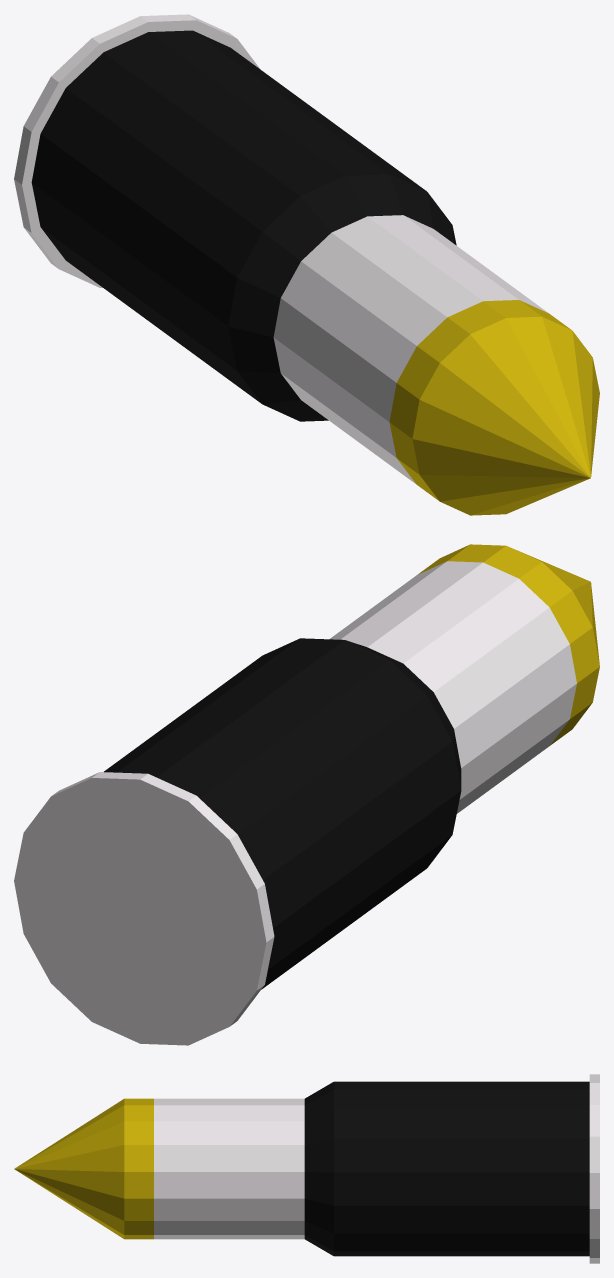
The model's file is bullet_1_bw.fbx.
3 views of the same model, one above another, from view 1: azimuth 30°, elevation 25°; view 2: azimuth 150°, elevation 25°; view 3: azimuth 270°, elevation 25° (orthographic). The views are drawn at different scales.
Visible parts, largest first — view 1: Bullet1_BW; view 2: Bullet1_BW; view 3: Bullet1_BW.
Boxes of the visible parts, box(x1,y1,x2,y2) form: Bullet1_BW: box(14, 14, 599, 515); Bullet1_BW: box(14, 544, 599, 1045); Bullet1_BW: box(14, 1074, 599, 1263).
Bounding box in the file's own units: 16.31 × 16.31 × 50.43.
